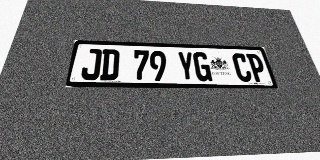7: (132, 50, 150, 81)
9: (150, 51, 167, 81)
C: (231, 53, 253, 82)
D: (100, 49, 120, 80)
G: (193, 52, 213, 81)
J: (80, 48, 102, 80)
P: (246, 54, 268, 82)
Y: (177, 51, 196, 81)
